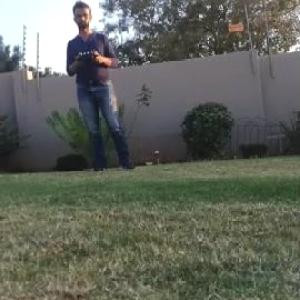follow: (63, 0, 143, 177)
